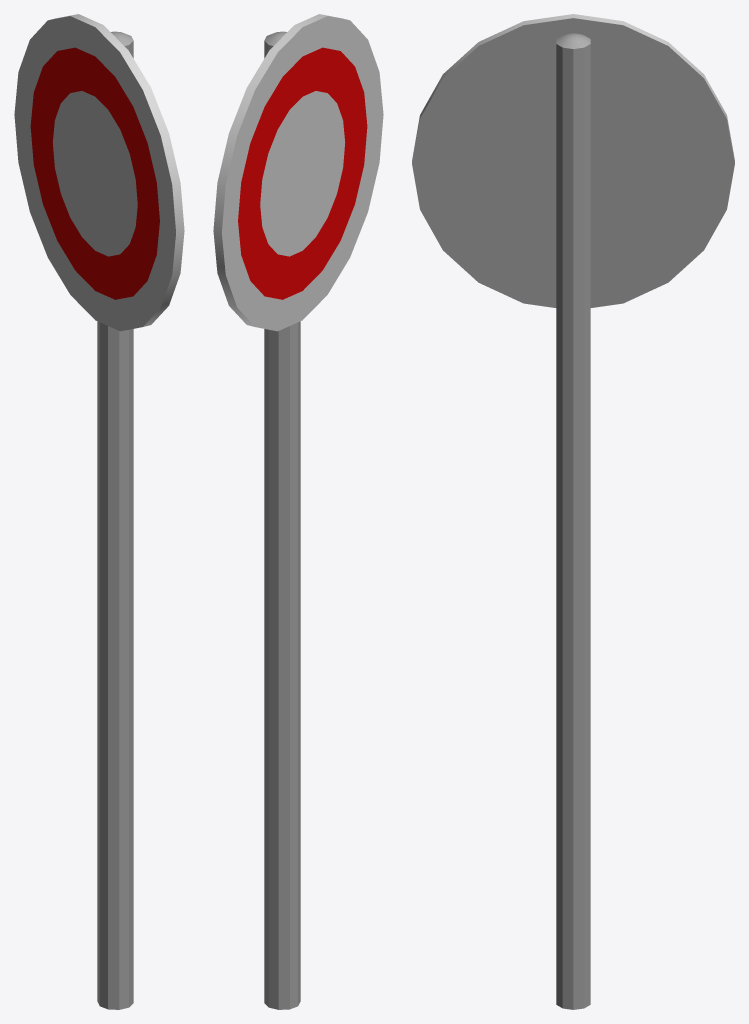
Rendered from StopSign.fbx.
3 views of the same model, side by side, from view 1: azimuth 30°, elevation 25°; view 2: azimuth 150°, elevation 25°; view 3: azimuth 270°, elevation 25° (orthographic).
Parts seen in each view (by area): view 1: StreetSign2; view 2: StreetSign2; view 3: StreetSign2.
Boxes of the visible parts, x1,y1,x2,y2 form: StreetSign2: (14, 14, 184, 1009); StreetSign2: (213, 14, 383, 1009); StreetSign2: (412, 14, 734, 1009).
Bounding box in the file's own units: 0.2575 × 6.69 × 2.
